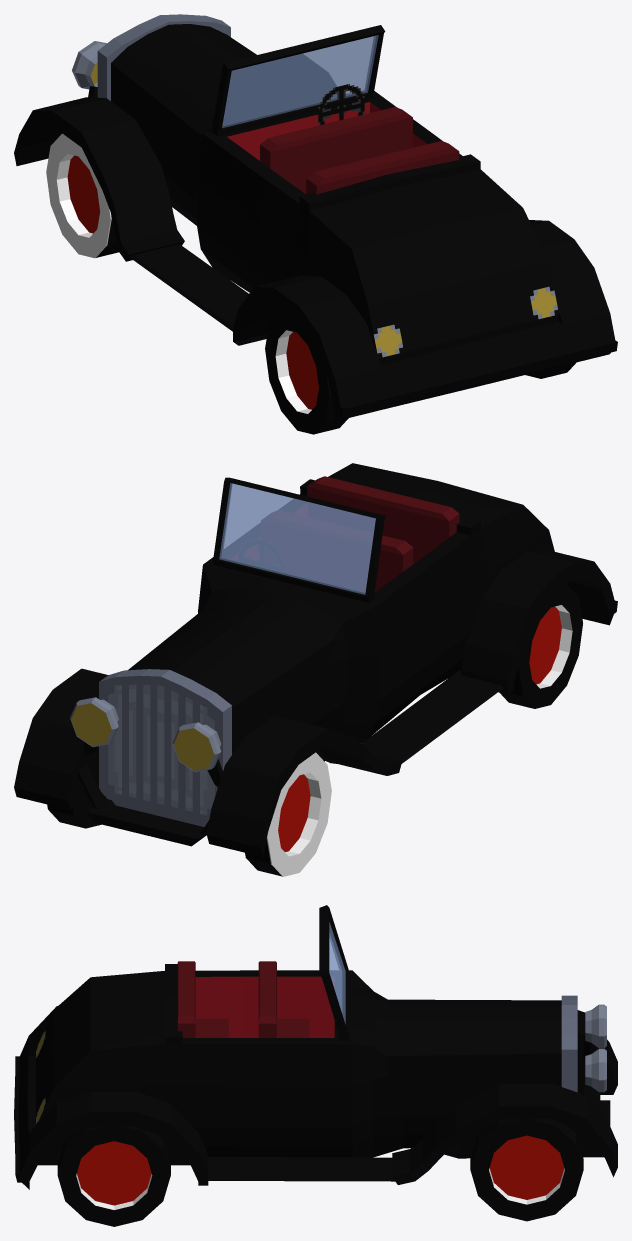
The model's file is MobCarTextured.glb.
3 renders of one model, top to bottom at view 1: azimuth 30°, elevation 25°; view 2: azimuth 150°, elevation 25°; view 3: azimuth 270°, elevation 25°, orthographic. The views are drawn at different scales.
Visible parts, largest first — view 1: Mainbody, RearWheel L, FrontWheel L; view 2: Mainbody, FrontWheel L, RearWheel L, FrontWheel R; view 3: Mainbody, FrontWheel R, RearWheel R.
Boxes of the visible parts, <box> form: Mainbody: <box>14,14,617,421</box>; RearWheel L: <box>265,309,348,434</box>; FrontWheel L: <box>46,133,118,258</box>; Mainbody: <box>14,463,617,856</box>; FrontWheel L: <box>245,752,331,876</box>; RearWheel L: <box>500,584,582,708</box>; FrontWheel R: <box>47,792,105,828</box>; Mainbody: <box>14,905,617,1189</box>; FrontWheel R: <box>470,1119,583,1221</box>; RearWheel R: <box>57,1126,170,1226</box>.
Size of the model in its own units: 4.93 by 4.56 by 10.67.
1 material, 1 textured.
